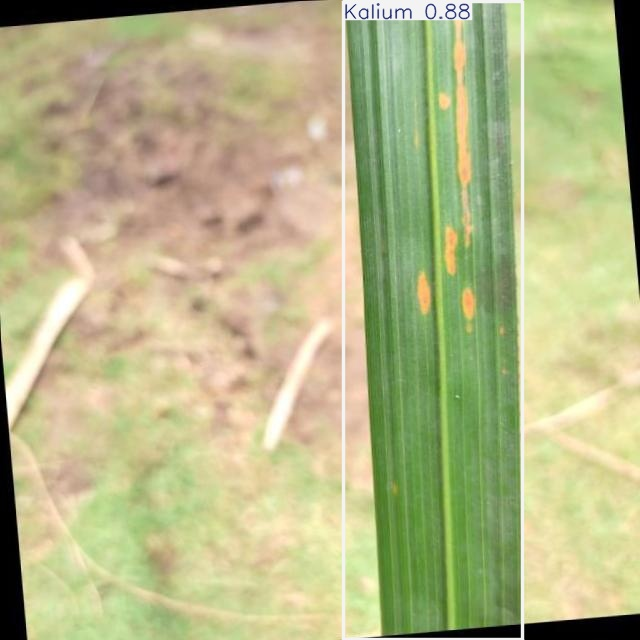Kalium: (343, 1, 523, 639)
